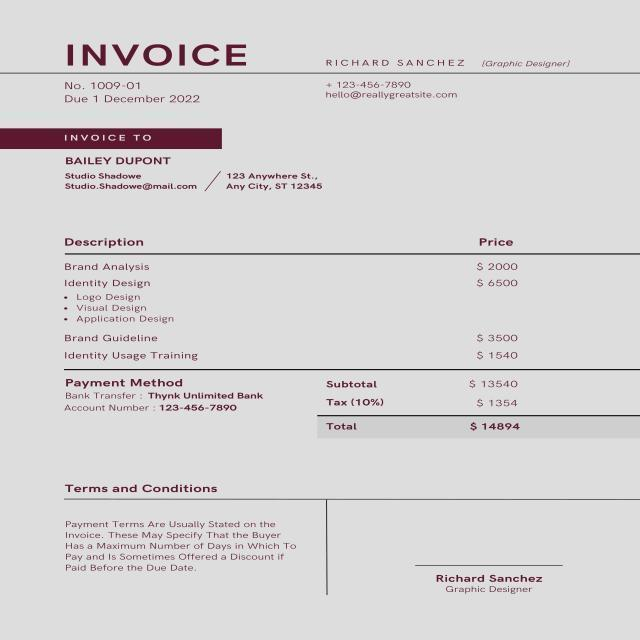ROI: (57, 231, 562, 370), (64, 480, 304, 585), (57, 129, 346, 203), (321, 55, 584, 114), (318, 377, 533, 443), (59, 377, 268, 423), (50, 35, 262, 72), (32, 79, 216, 113), (432, 569, 548, 601)
